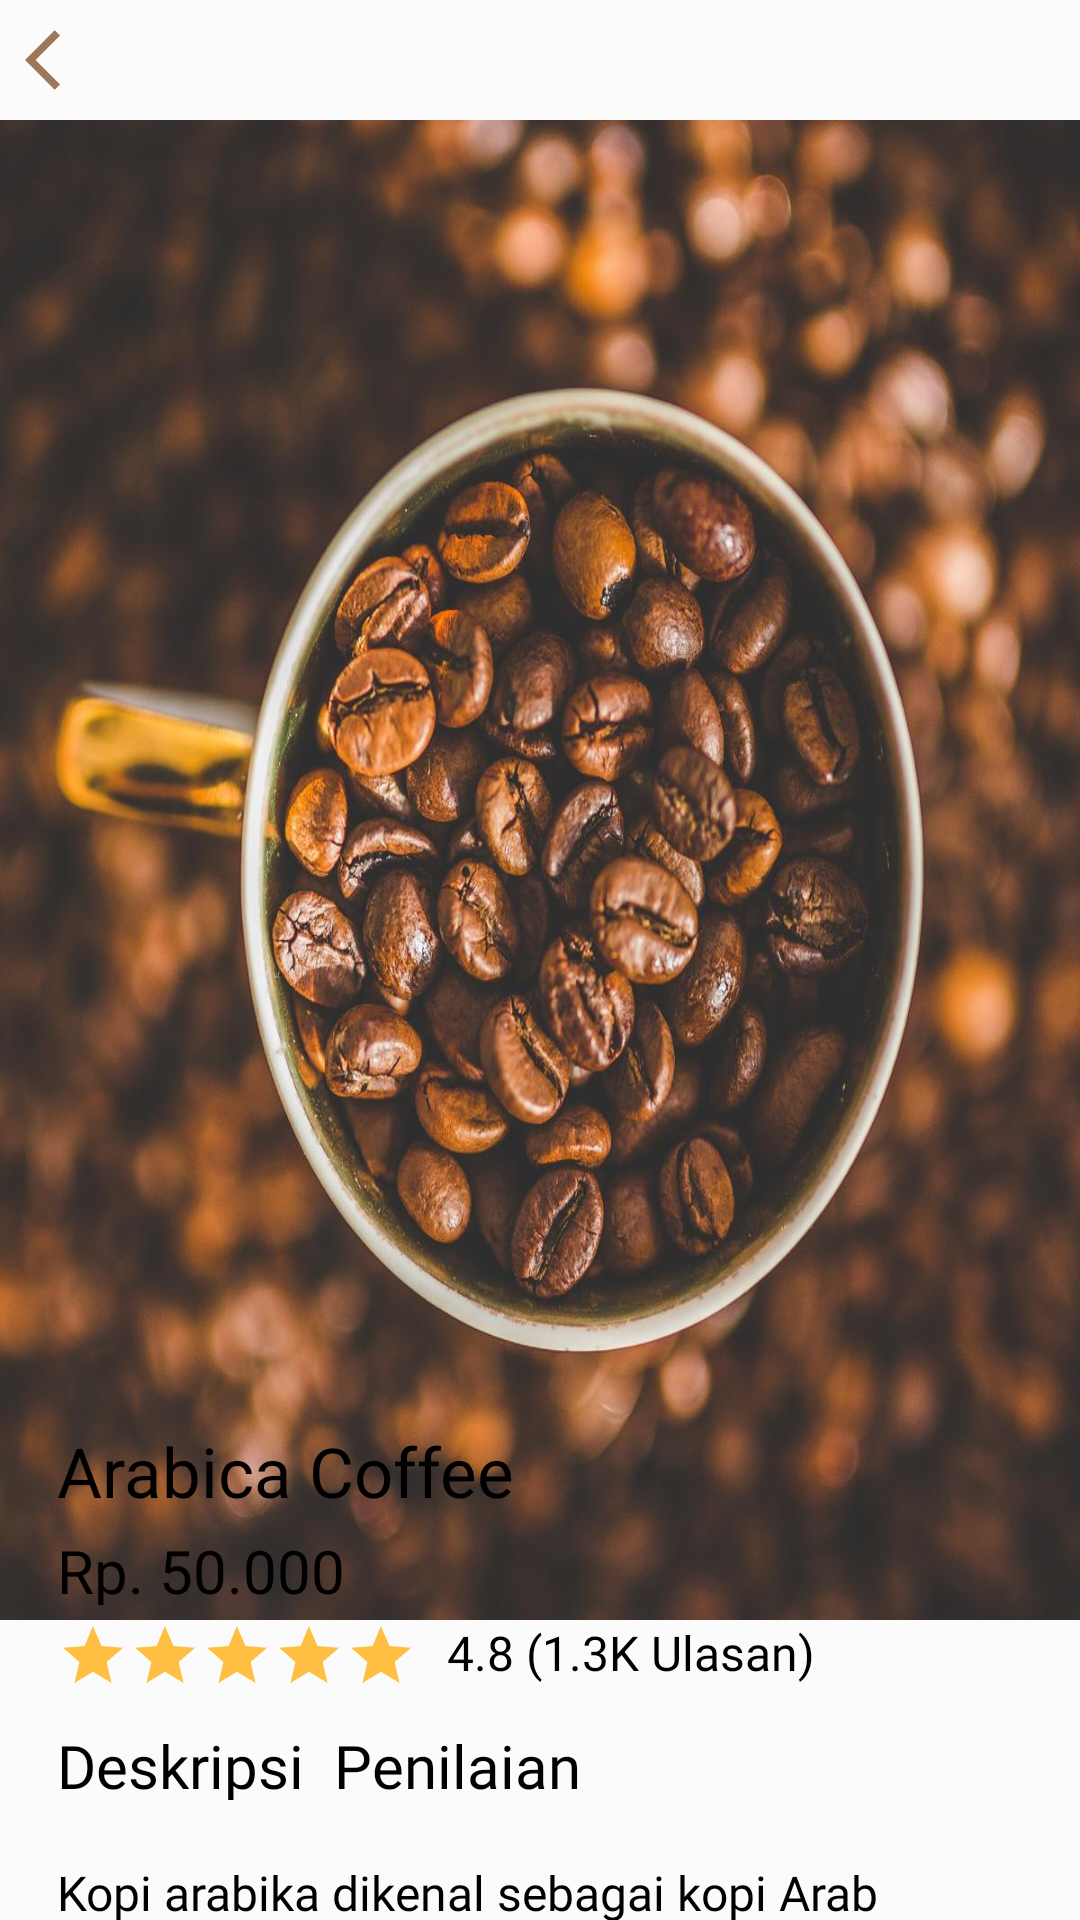

Named icons in this screenshot (1080 × 1920) and their bounding boxes, region(x1, y1, x2, y2):
star: region(63, 1626, 123, 1683), region(135, 1626, 195, 1683), region(207, 1626, 267, 1683), region(279, 1626, 339, 1683), region(351, 1626, 411, 1683)
